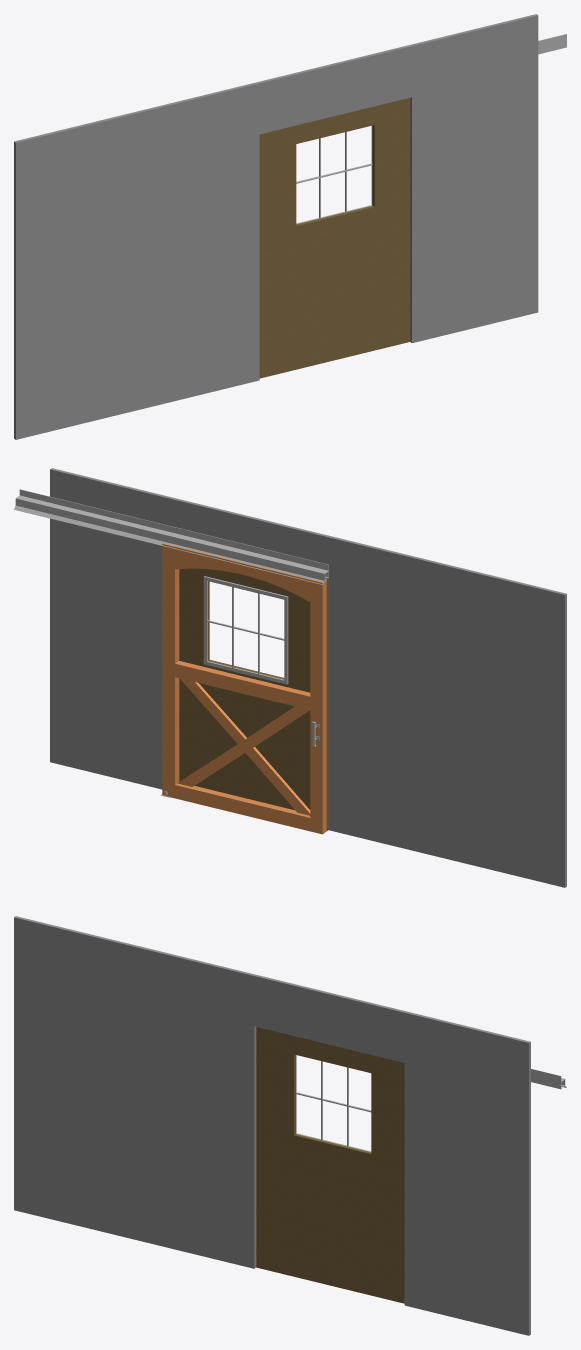
3 renders of one model, top to bottom at view 1: azimuth 30°, elevation 25°; view 2: azimuth 150°, elevation 25°; view 3: azimuth 330°, elevation 25°, orthographic.
Parts seen in each view (by area): view 1: Walls, Other; view 2: Walls, Other; view 3: Walls, Other.
Part boxes in pixels (x1,y1,x2,y2): Walls: (14,14,538,439); Other: (259,34,566,378); Walls: (50,468,566,887); Other: (14,489,328,834); Walls: (14,916,530,1335); Other: (256,1027,566,1303).
Size of the model in its own units: 6.45 by 3.31 by 0.2268.
Materials: 4 (2 with a texture image).
